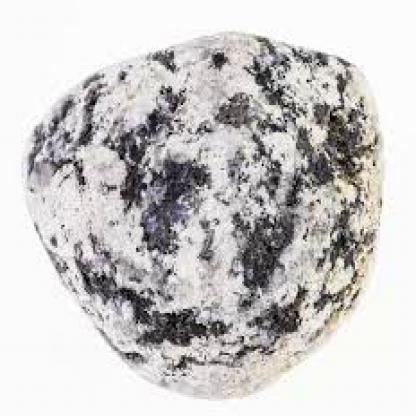Igneous_Diorite: (20, 21, 389, 399)
